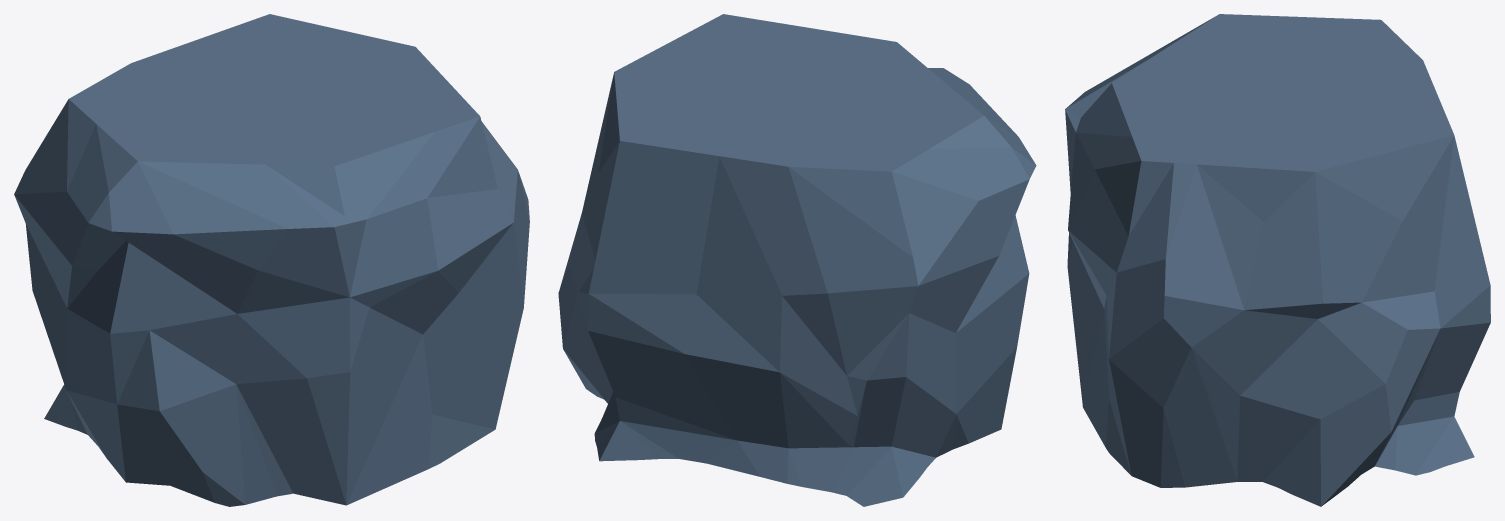
File: roca4.fbx
3 renders of one model, left to right at view 1: azimuth 30°, elevation 25°; view 2: azimuth 150°, elevation 25°; view 3: azimuth 270°, elevation 25°, orthographic.
Parts seen in each view (by area): view 1: r4; view 2: r4; view 3: r4.
Part boxes in pixels (x1,y1,x2,y2): r4: (14,14,529,506); r4: (558,14,1036,506); r4: (1065,14,1490,506).
Size of the model in its own units: 8.92 by 6.85 by 8.04.
